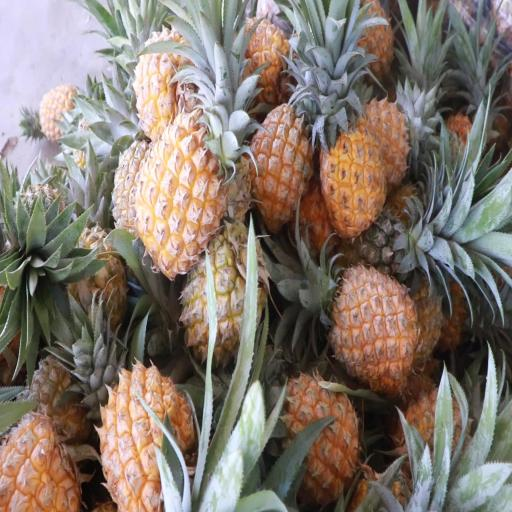------------------------------: (184, 234, 261, 363)
Pineapple - v8 v1: (105, 368, 194, 512), (140, 121, 224, 266), (279, 377, 360, 503), (329, 264, 413, 379), (245, 108, 314, 230), (321, 126, 386, 236), (133, 36, 197, 132), (240, 18, 292, 96)
